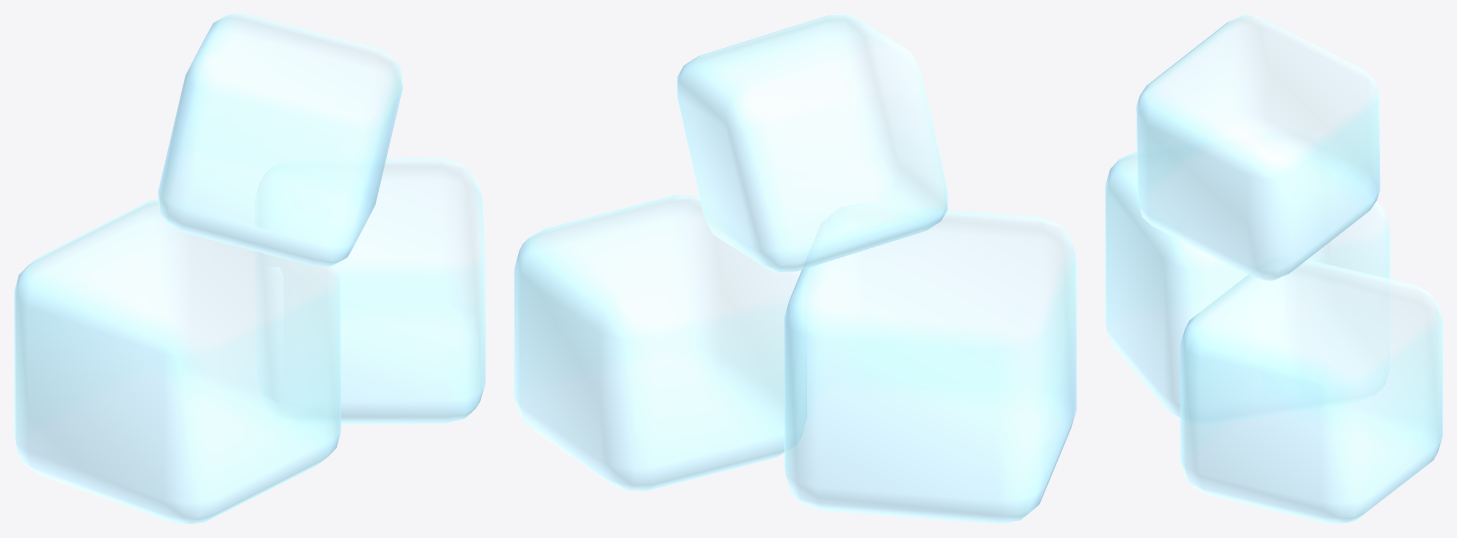
File: Item_IceCube.fbx
3 renders of one model, left to right at view 1: azimuth 30°, elevation 25°; view 2: azimuth 150°, elevation 25°; view 3: azimuth 270°, elevation 25°, orthographic. The views are drawn at different scales.
Visible parts, largest first — view 1: Ice_A, Ice_B, Ice_C; view 2: Ice_A, Ice_B, Ice_C; view 3: Ice_A, Ice_B, Ice_C.
Boxes of the visible parts, x1,y1,x2,y2 form: Ice_A: (14,199,340,523); Ice_B: (255,158,485,424); Ice_C: (158,14,402,266); Ice_A: (784,204,1076,523); Ice_B: (514,195,806,491); Ice_C: (676,14,948,272); Ice_A: (1105,129,1390,425); Ice_B: (1180,257,1442,523); Ice_C: (1136,14,1380,281).
Size of the model in its own units: 0.0974 by 0.0786 by 0.0634.
